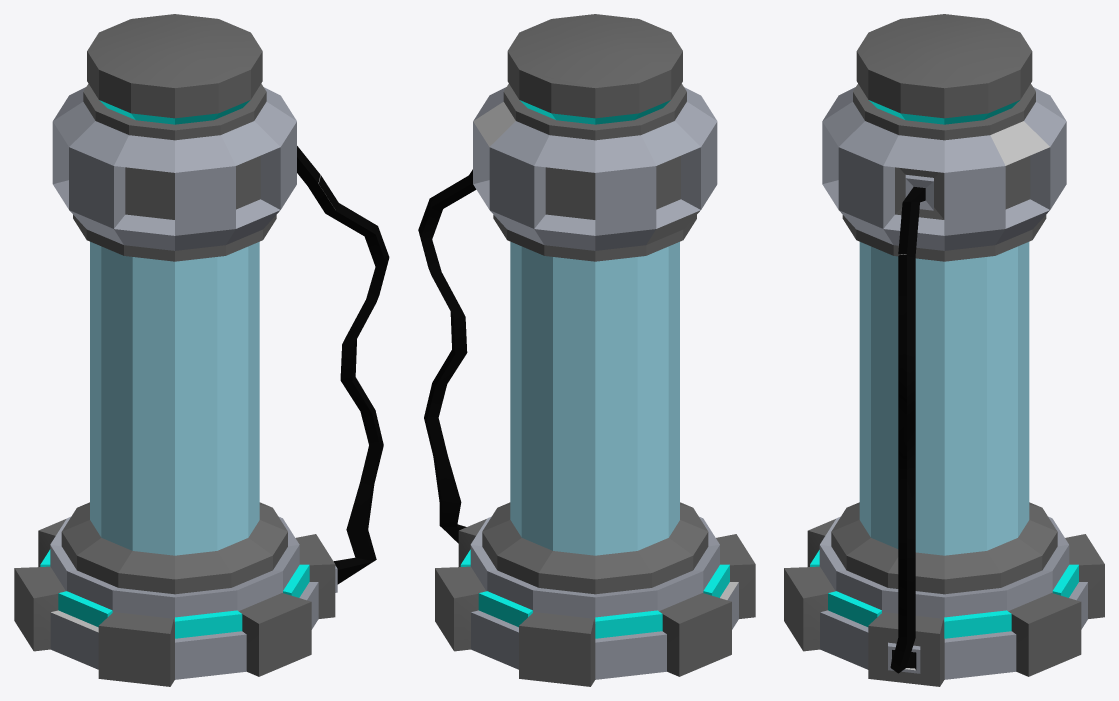
Rendered from incubator.fbx.
3 views of the same model, side by side, from view 1: azimuth 30°, elevation 25°; view 2: azimuth 150°, elevation 25°; view 3: azimuth 270°, elevation 25° (orthographic).
Visible parts, largest first — view 1: incubateur; view 2: incubateur; view 3: incubateur.
Part boxes in pixels (x1=…): incubateur: x1=14, y1=14, x2=389, y2=686; incubateur: x1=418, y1=14, x2=755, y2=686; incubateur: x1=784, y1=14, x2=1104, y2=686.
Bounding box in the file's own units: 13.35 × 21.91 × 11.08.
